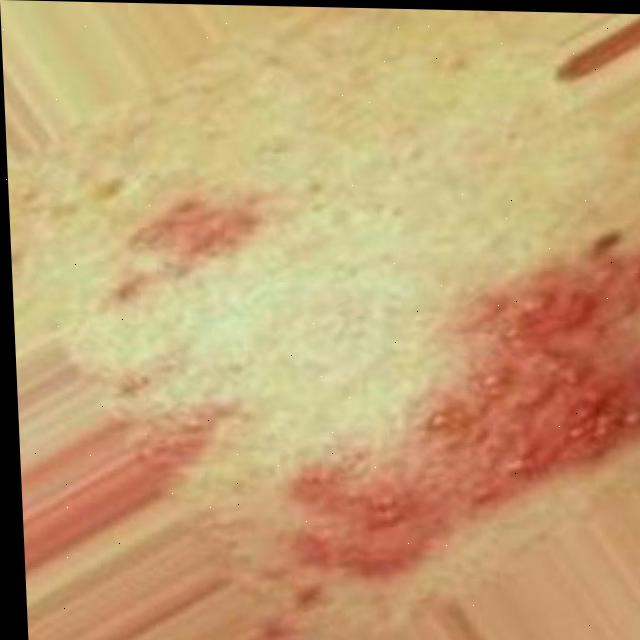Shingles: (277, 220, 640, 597), (110, 189, 271, 473)
